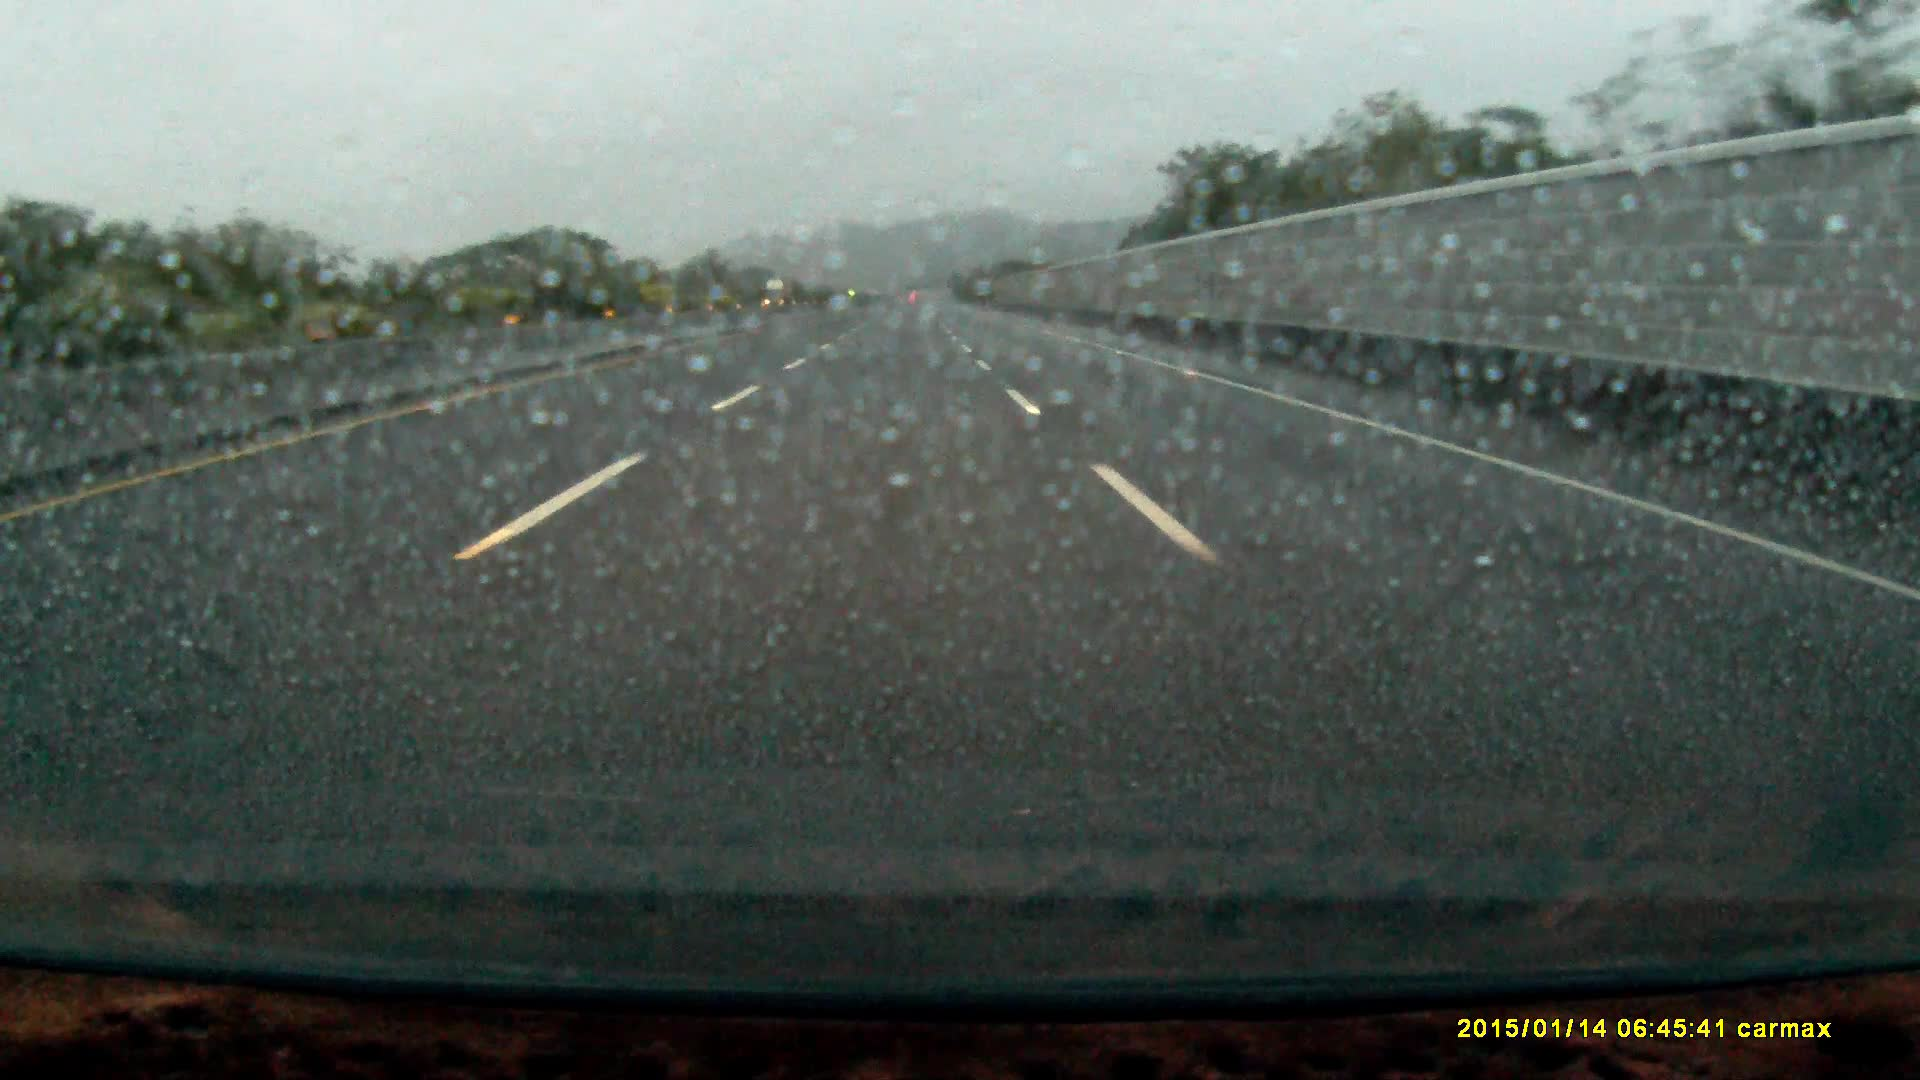vehicle: (765, 280, 791, 307)
